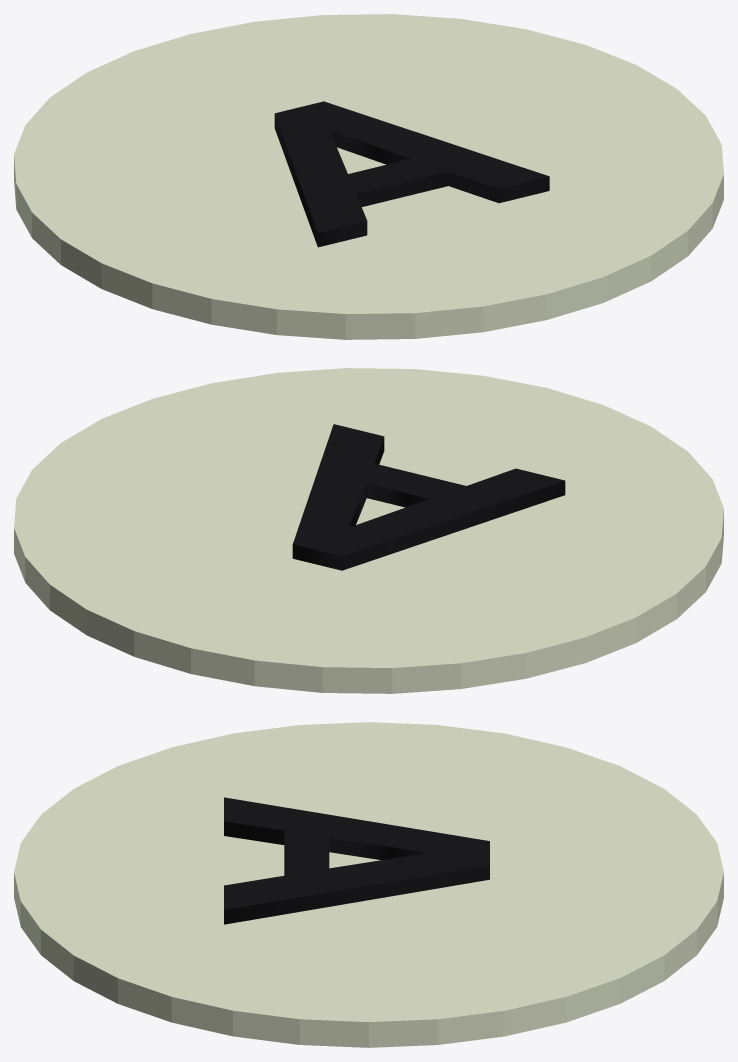
The picture shows the model from 3 angles, top to bottom: view 1: azimuth 30°, elevation 25°; view 2: azimuth 150°, elevation 25°; view 3: azimuth 270°, elevation 25°; orthographic projection.
Visible parts, largest first — view 1: 柱体, 文本; view 2: 柱体, 文本; view 3: 柱体, 文本.
Part boxes in pixels (left/top/right/bottom): 柱体: left=14, top=14, right=723, bottom=339; 文本: left=274, top=101, right=549, bottom=247; 柱体: left=14, top=368, right=723, bottom=693; 文本: left=292, top=424, right=565, bottom=570; 柱体: left=14, top=722, right=723, bottom=1047; 文本: left=224, top=797, right=489, bottom=924.
Size of the model in its own units: 200 by 12.5 by 200.
